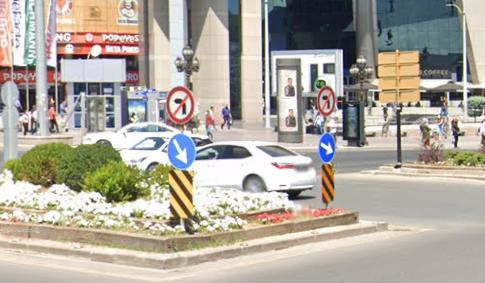leftturnsareforbidden: (166, 86, 195, 123), (316, 85, 335, 116)
